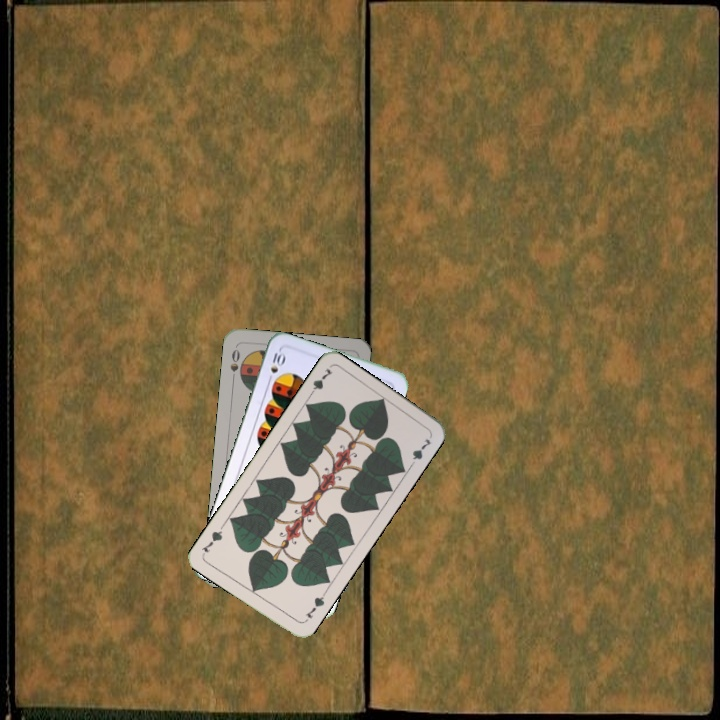G7: (305, 364, 335, 400), (300, 589, 328, 625)
S10: (264, 346, 287, 385)
SO: (226, 343, 242, 383)
